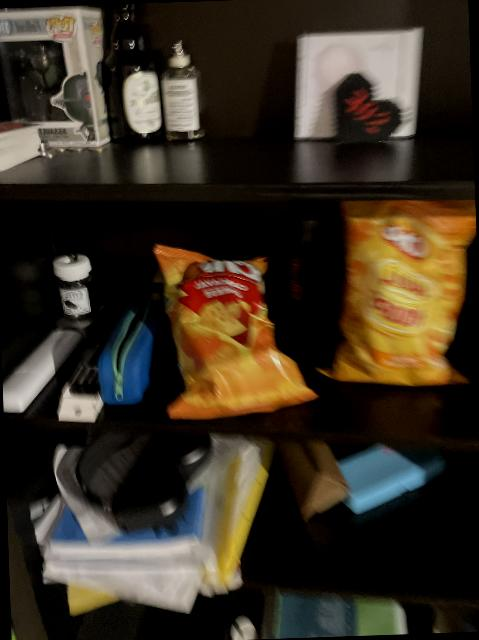Chio Cascaval 125g: (152, 240, 322, 419)
Chio Hula Hoops Cheese 70g: (308, 200, 479, 388)
